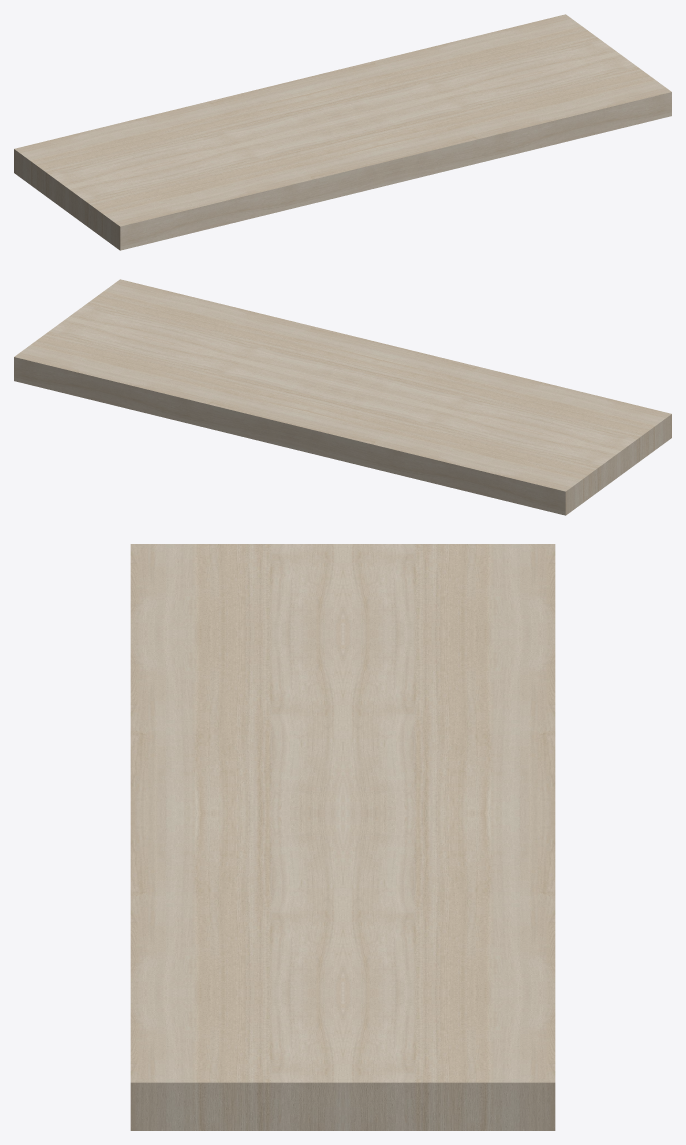
The model's file is shelf-slab.glb.
3 views of the same model, one above another, from view 1: azimuth 30°, elevation 25°; view 2: azimuth 150°, elevation 25°; view 3: azimuth 270°, elevation 25° (orthographic). The views are drawn at different scales.
Parts seen in each view (by area): view 1: shelf-slab; view 2: shelf-slab; view 3: shelf-slab.
Part boxes in pixels (x1=…): shelf-slab: x1=14, y1=14, x2=671, y2=250; shelf-slab: x1=14, y1=279, x2=671, y2=515; shelf-slab: x1=130, y1=544, x2=555, y2=1130.
Bounding box in the file's own units: 0.9144 × 0.0381 × 0.3048.
1 material, 1 textured.
